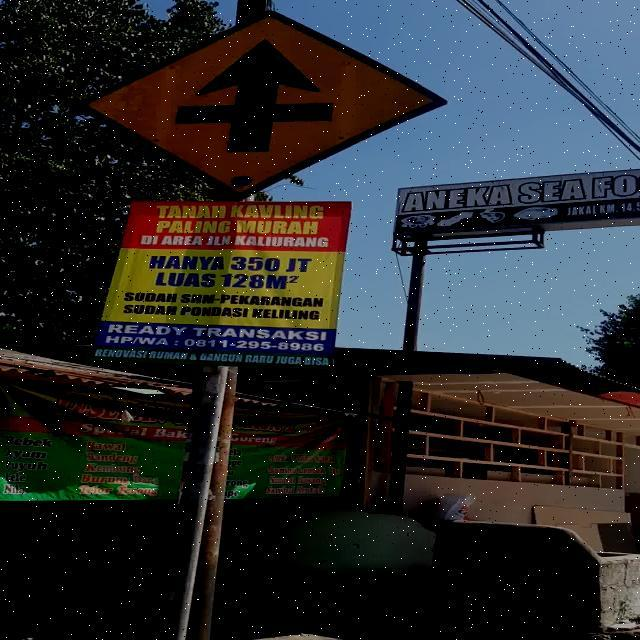Persimpangan 3 Prioritas: (68, 9, 450, 200)
